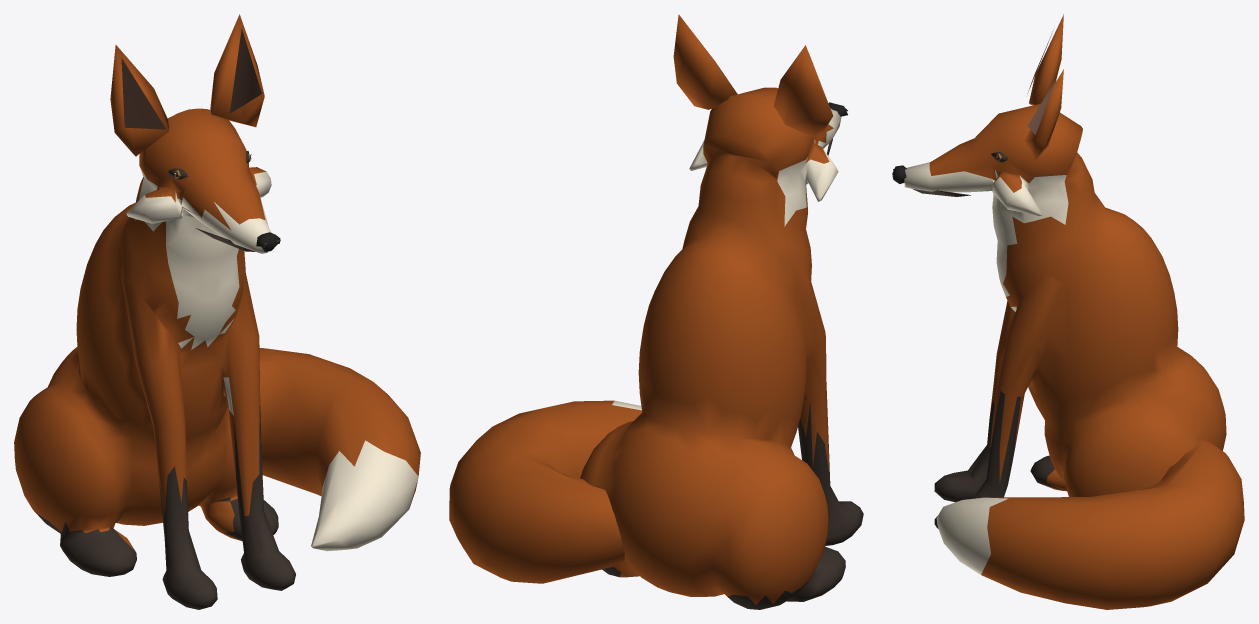
File: SM_Fox_LOD1.fbx
The picture shows the model from 3 angles, left to right: view 1: azimuth 30°, elevation 25°; view 2: azimuth 150°, elevation 25°; view 3: azimuth 270°, elevation 25°; orthographic projection. The views are drawn at different scales.
Parts seen in each view (by area): view 1: SM_Fox_LOD1_Mesh; view 2: SM_Fox_LOD1_Mesh; view 3: SM_Fox_LOD1_Mesh.
Part boxes in pixels (bbox=[...]): SM_Fox_LOD1_Mesh: bbox=[14, 14, 420, 609]; SM_Fox_LOD1_Mesh: bbox=[449, 14, 863, 609]; SM_Fox_LOD1_Mesh: bbox=[892, 14, 1244, 609].
Size of the model in its own units: 64.24 by 61.52 by 92.85.
